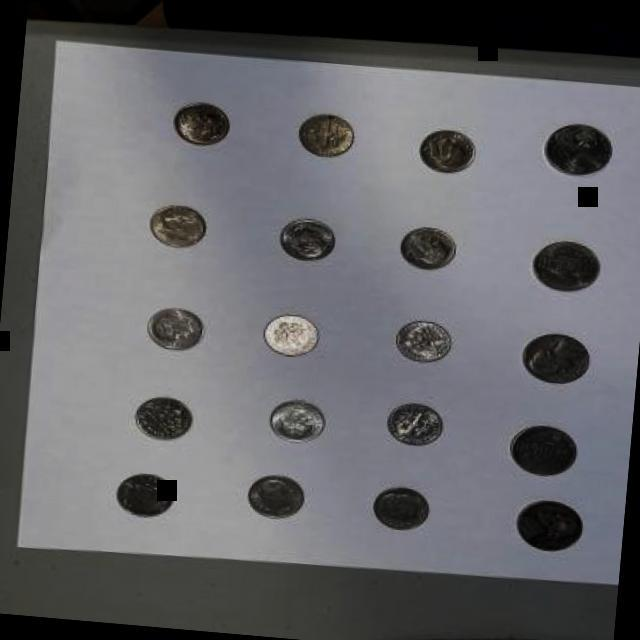Dime: (370, 482, 442, 536), (168, 98, 235, 152), (110, 469, 177, 522), (142, 304, 210, 356), (410, 126, 478, 178), (130, 392, 197, 444), (242, 472, 308, 524), (273, 214, 339, 266), (391, 316, 456, 368), (394, 224, 458, 276), (146, 200, 208, 252), (264, 398, 328, 448), (296, 114, 358, 164), (260, 314, 322, 361), (384, 402, 445, 449)
Nickel: (501, 420, 583, 480), (538, 120, 614, 182), (510, 497, 588, 557), (516, 329, 594, 389), (529, 240, 604, 298)
